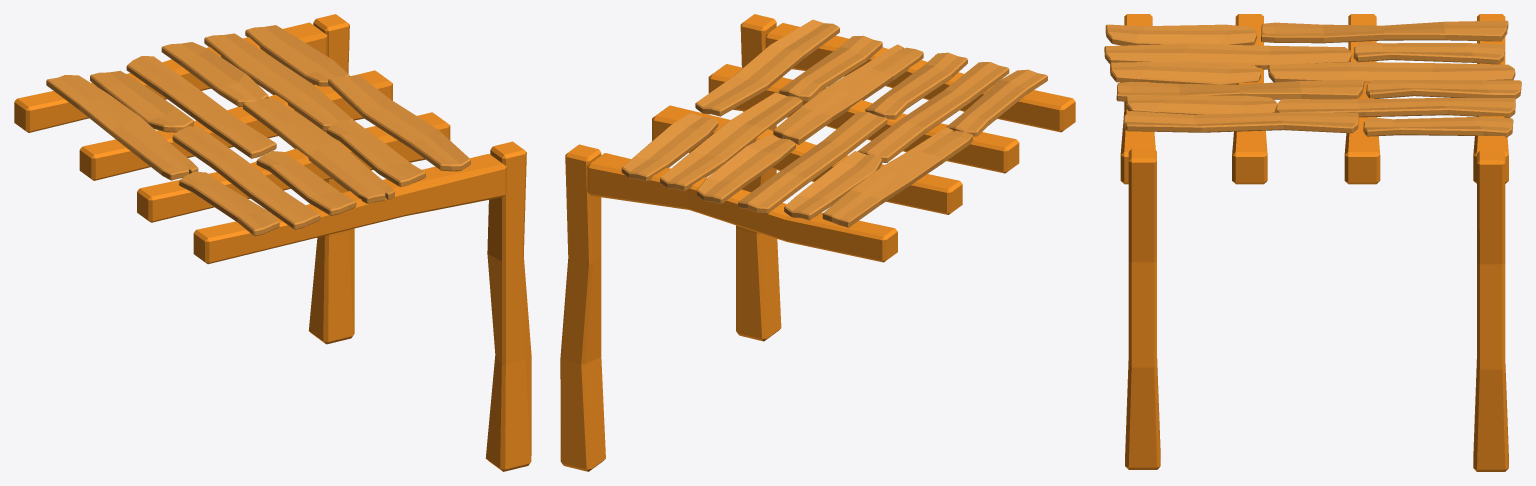
File: Base 2 perna .fbx
The picture shows the model from 3 angles, left to right: view 1: azimuth 30°, elevation 25°; view 2: azimuth 150°, elevation 25°; view 3: azimuth 270°, elevation 25°; orthographic projection.
Parts seen in each view (by area): view 1: polySurface18, polySurface7, polySurface1, polySurface17, polySurface20, polySurface15, polySurface14, polySurface11, polySurface9, polySurface4, polySurface19, polySurface8 (+6 smaller); view 2: polySurface1, polySurface8, polySurface18, polySurface17, polySurface20, polySurface15, polySurface14, polySurface11, polySurface9, polySurface7, polySurface4, polySurface19 (+6 smaller); view 3: polySurface18, polySurface1, polySurface17, polySurface9, polySurface15, polySurface11, polySurface14, polySurface20, polySurface10, polySurface13, polySurface6, polySurface16 (+6 smaller).
Part boxes in pixels (box(x1,y1,x2,y2)): polySurface18: box(485, 141, 531, 471); polySurface7: box(193, 153, 506, 264); polySurface1: box(308, 14, 354, 344); polySurface17: box(46, 75, 198, 180); polySurface20: box(243, 98, 394, 203); polySurface15: box(328, 75, 470, 171); polySurface14: box(204, 33, 353, 131); polySurface11: box(126, 56, 276, 158); polySurface9: box(172, 126, 320, 229); polySurface4: box(137, 112, 450, 222); polySurface19: box(79, 70, 392, 180); polySurface8: box(14, 22, 327, 132); polySurface1: box(560, 144, 605, 471); polySurface8: box(587, 153, 897, 262); polySurface18: box(736, 14, 781, 341); polySurface17: box(822, 127, 972, 227); polySurface20: box(773, 44, 923, 144); polySurface15: box(695, 19, 839, 116); polySurface14: box(660, 92, 802, 191); polySurface11: box(738, 112, 887, 213); polySurface9: box(857, 62, 1009, 162); polySurface7: box(765, 23, 1075, 132); polySurface4: box(708, 64, 1019, 173); polySurface19: box(652, 105, 962, 214); polySurface18: box(1125, 148, 1160, 469); polySurface1: box(1473, 150, 1508, 471); polySurface17: box(1261, 20, 1508, 43); polySurface9: box(1104, 43, 1351, 69); polySurface15: box(1123, 111, 1358, 133); polySurface11: box(1268, 62, 1515, 82); polySurface14: box(1275, 98, 1515, 118); polySurface20: box(1116, 79, 1364, 101); polySurface10: box(1110, 62, 1260, 84); polySurface13: box(1105, 24, 1256, 45); polySurface6: box(1353, 42, 1504, 64); polySurface16: box(1366, 80, 1521, 99).
Bounding box in the file's own units: 547 × 517 × 610.
